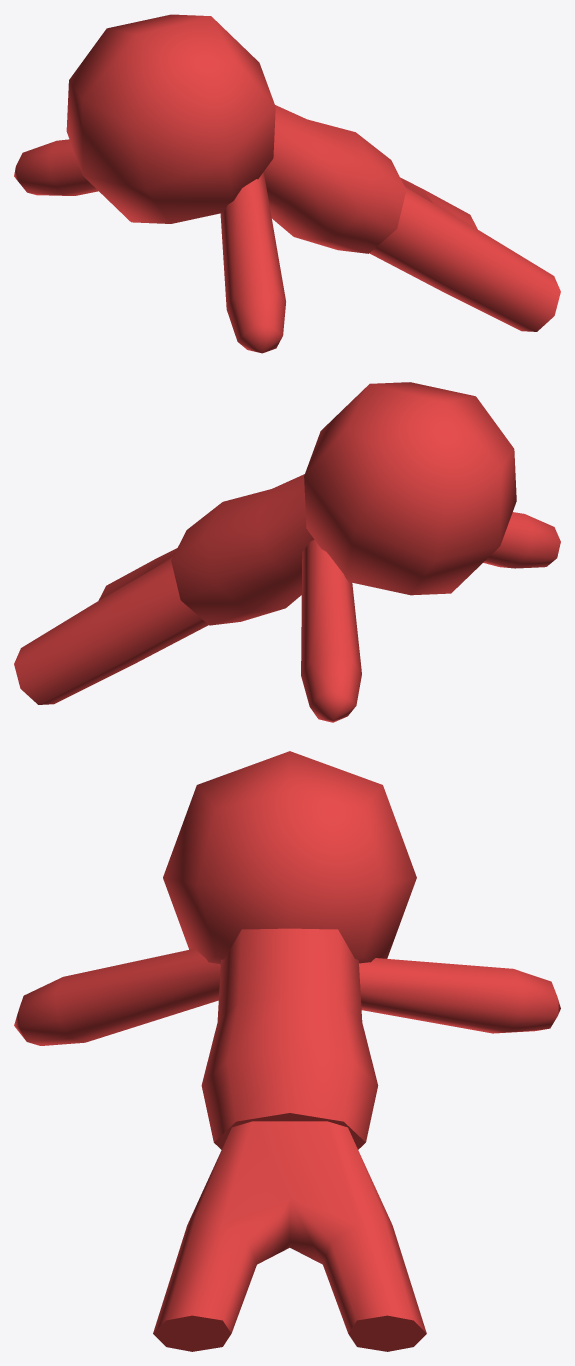
The model's file is FireFighter.fbx.
The picture shows the model from 3 angles, top to bottom: view 1: azimuth 30°, elevation 25°; view 2: azimuth 150°, elevation 25°; view 3: azimuth 270°, elevation 25°; orthographic projection. The views are drawn at different scales.
Parts seen in each view (by area): view 1: FireFighter; view 2: FireFighter; view 3: FireFighter.
Boxes of the visible parts, x1,y1,x2,y2 form: FireFighter: (14, 14, 560, 353); FireFighter: (14, 382, 560, 722); FireFighter: (14, 751, 560, 1351).
Bounding box in the file's own units: 380 × 295 × 359.
1 material, 1 textured.
